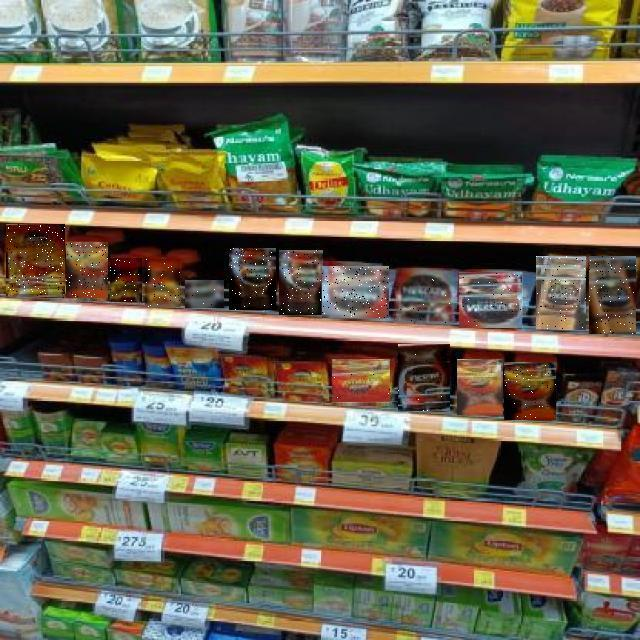Coffee: (6, 224, 65, 298), (536, 256, 586, 330), (460, 272, 526, 328), (589, 257, 636, 335), (322, 267, 389, 319), (398, 344, 450, 411), (397, 268, 455, 324), (504, 362, 556, 420), (229, 248, 276, 310), (279, 250, 323, 315), (332, 360, 390, 406), (457, 359, 503, 415), (66, 242, 108, 298), (145, 259, 180, 307), (110, 258, 142, 302), (185, 280, 224, 308)
